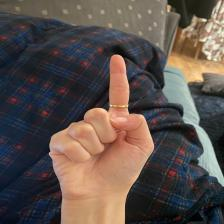one: (46, 55, 160, 199)
